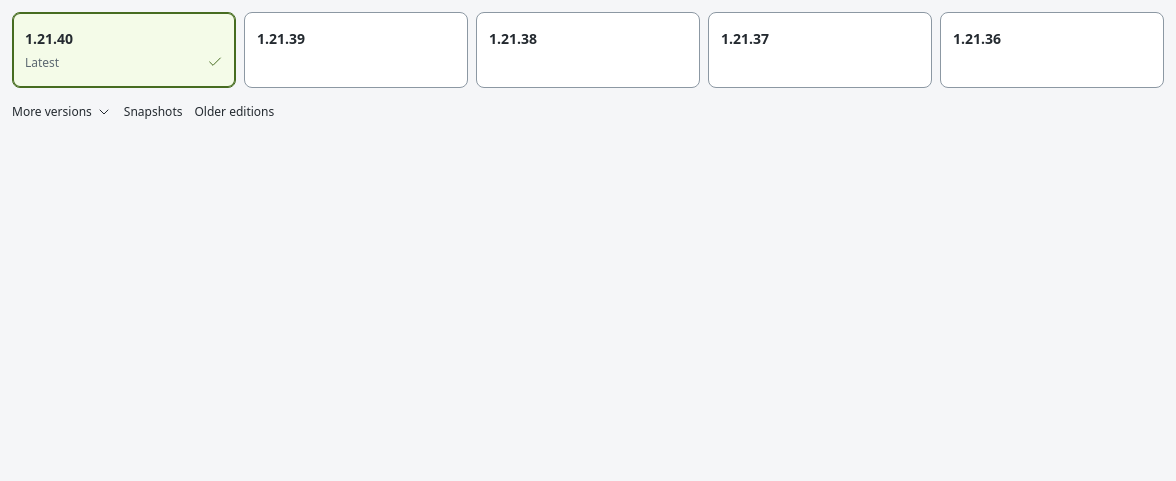
searches all loaded releases, browses snapshots and legacy versions, and keeps the selected tile visible
The width and height of the screenshot is (1176, 481).
Click the button "More versions" at {"x": 62, "y": 112}, box top-left (12, 96), bottom-right (112, 128)
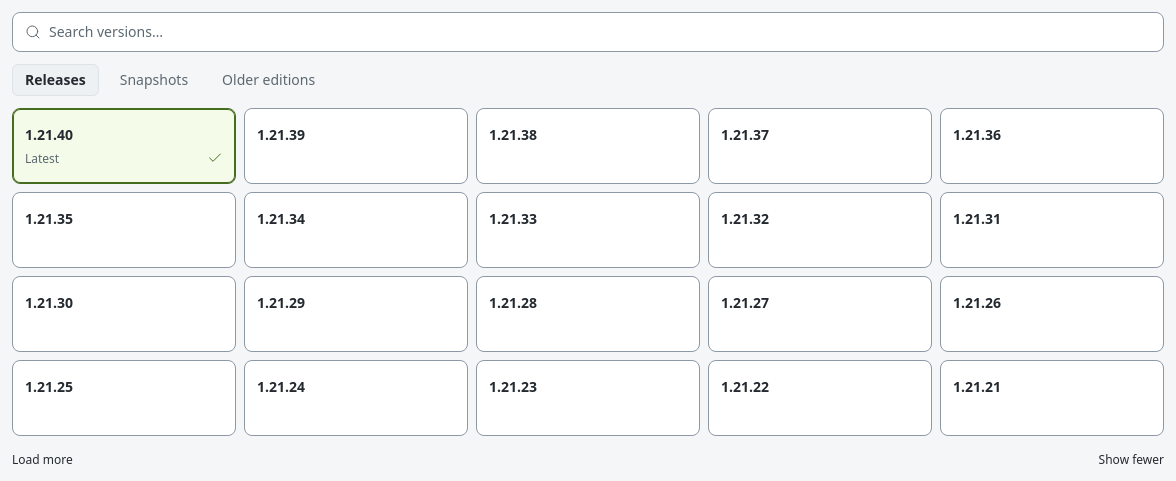
Check: the number of radio buttons is 20
Type "1.21.1" into the search field with placeholder "Search versions…" at {"x": 606, "y": 32}, box top-left (49, 13), bottom-right (1163, 51)
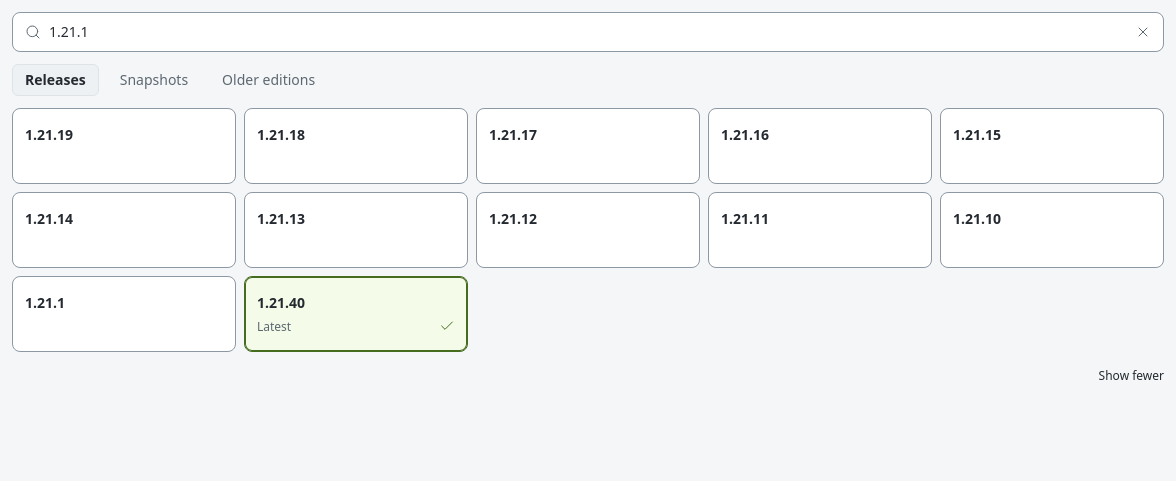
Click the button "Snapshots" at {"x": 154, "y": 80}, box top-left (107, 64), bottom-right (201, 96)
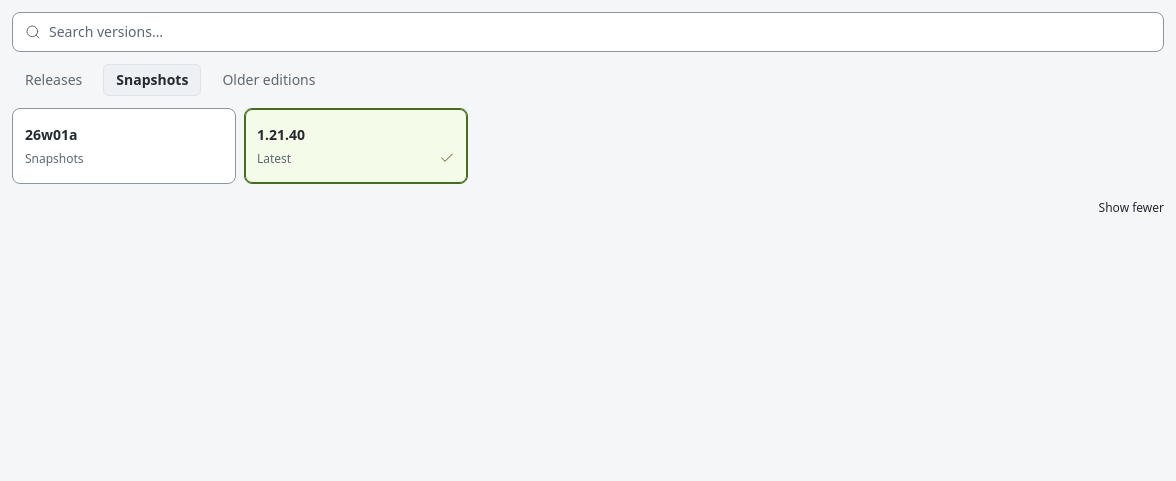
Check: the radio button labelled "1.21.40 Latest" is shown, box top-left (244, 108), bottom-right (468, 184)
Check: the text "26w01a" is shown, box top-left (25, 125), bottom-right (78, 144)
Click the button "Older editions" at {"x": 269, "y": 80}, box top-left (209, 64), bottom-right (328, 96)
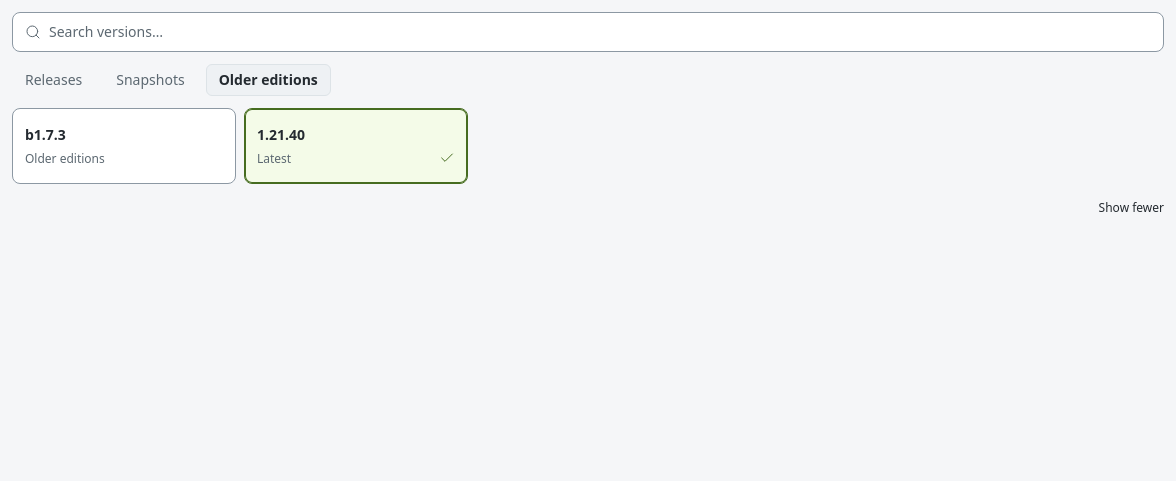
Check: the text "b1.7.3" is shown, box top-left (25, 125), bottom-right (66, 144)
Click the button "Show fewer" at {"x": 1131, "y": 208}, box top-left (1099, 192), bottom-right (1164, 224)
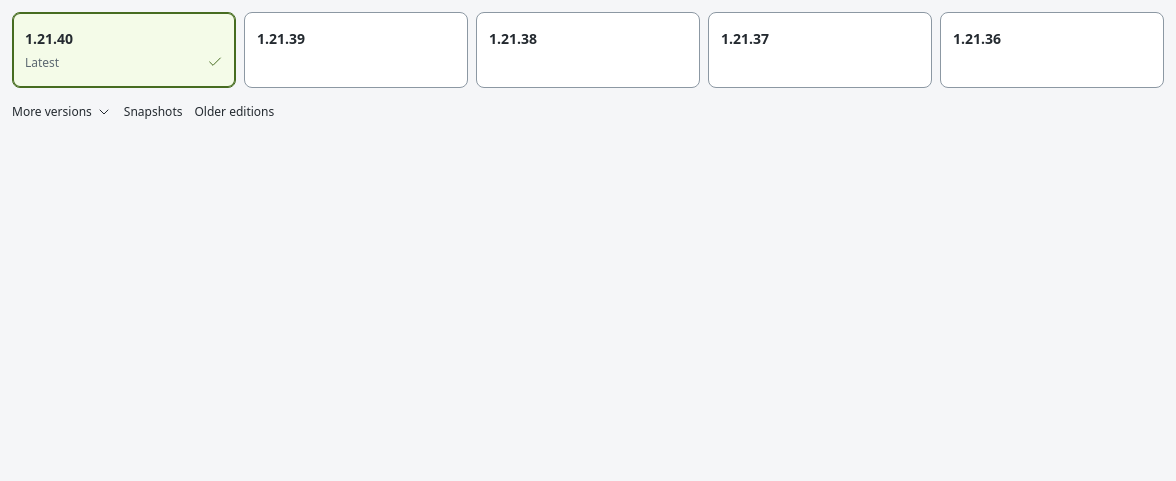
Check: the number of radio buttons is 5, box top-left (12, 12), bottom-right (236, 88); top-left (244, 12), bottom-right (468, 88); top-left (476, 12), bottom-right (700, 88); top-left (708, 12), bottom-right (932, 88); top-left (940, 12), bottom-right (1164, 88)
